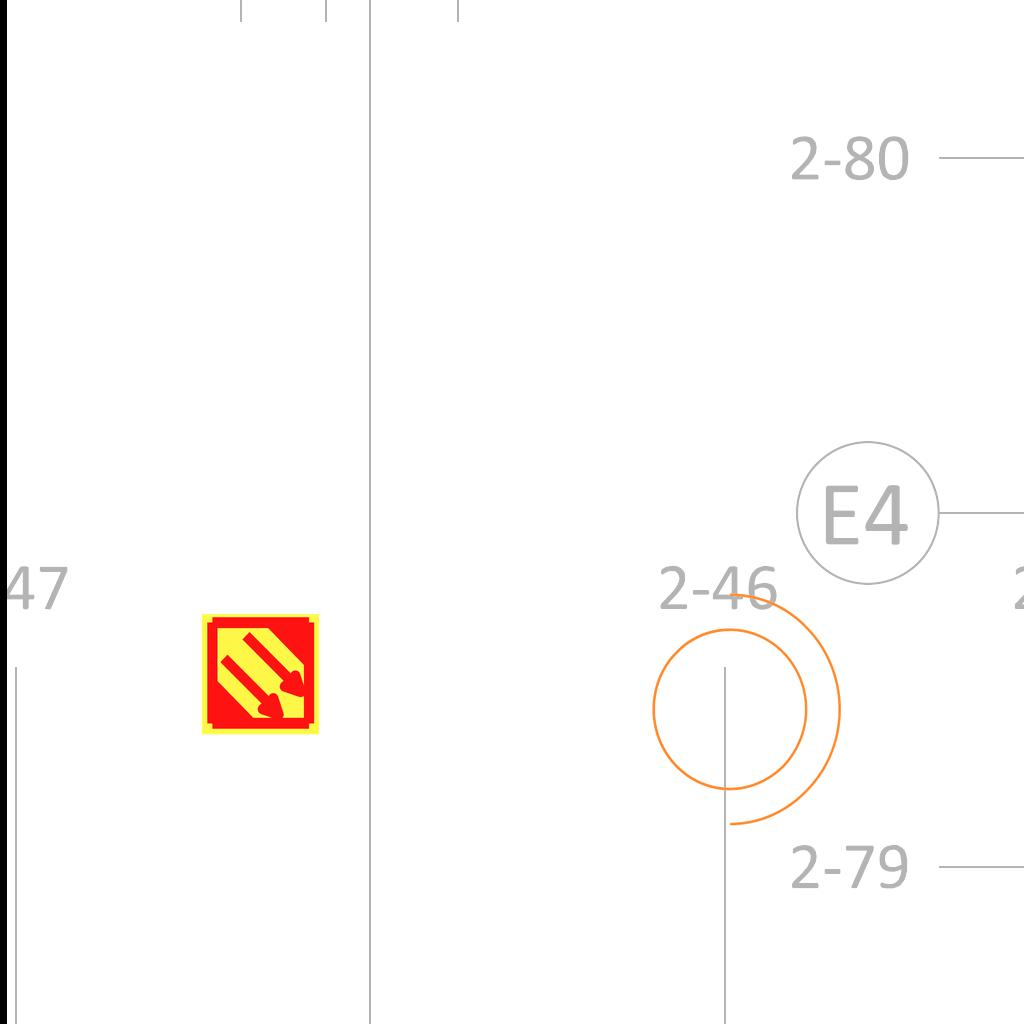ASR_Ansaugrauchmelder: (198, 612, 323, 737)
Scheinwerfer_fuer_Alarmbeleuchtung: (627, 571, 852, 835)
